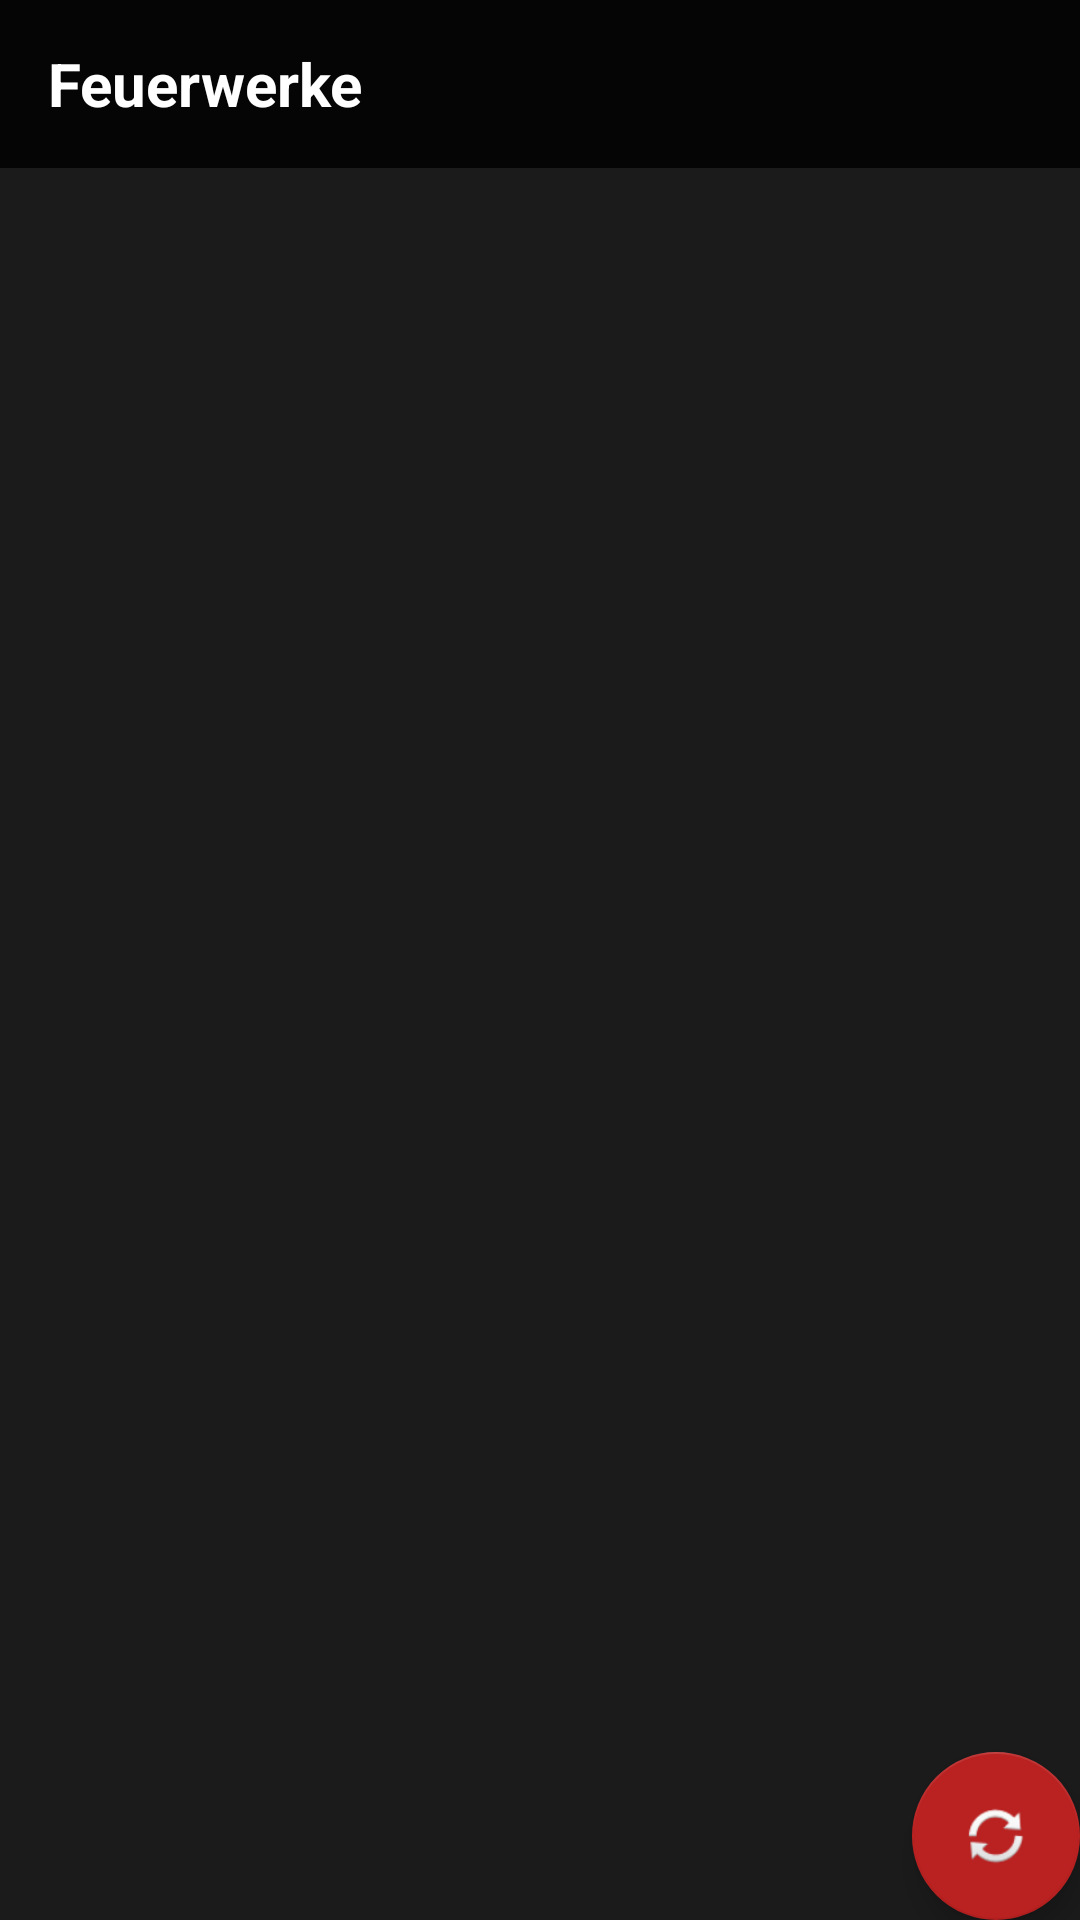

Where to tap for icons on this 1080 x 1920 app screen, as point (x, y):
popup sync: point (996, 1836)
